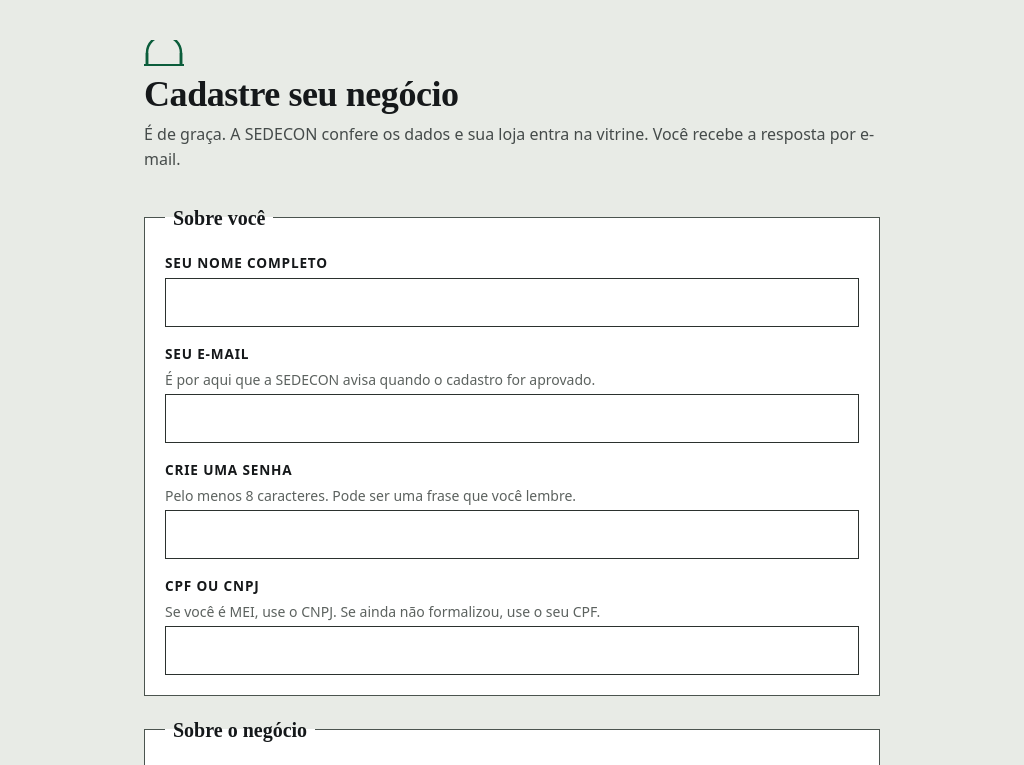
formulário de cadastro › mascara o CPF enquanto a pessoa digita
This screenshot has width=1024, height=765.
Type "52998224725" into the field labelled "CPF ou CNPJ" at (512, 650), box [165,626,859,675]
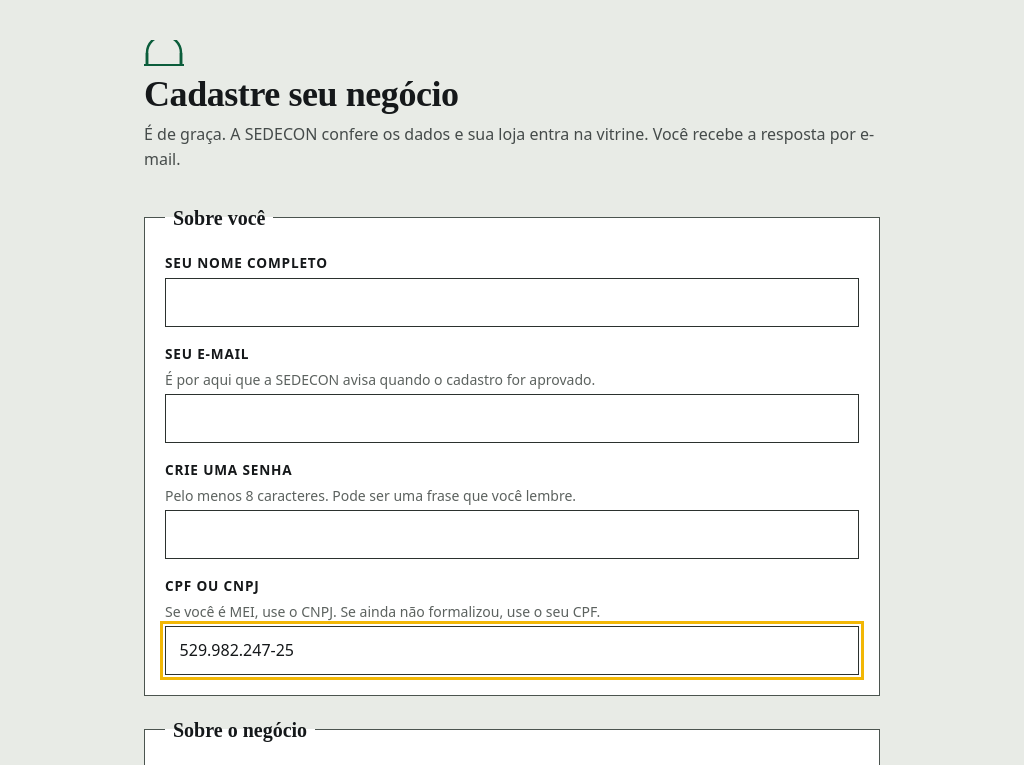
Expected: the field labelled "CPF ou CNPJ" holds "529.982.247-25", [165,626,859,675]
